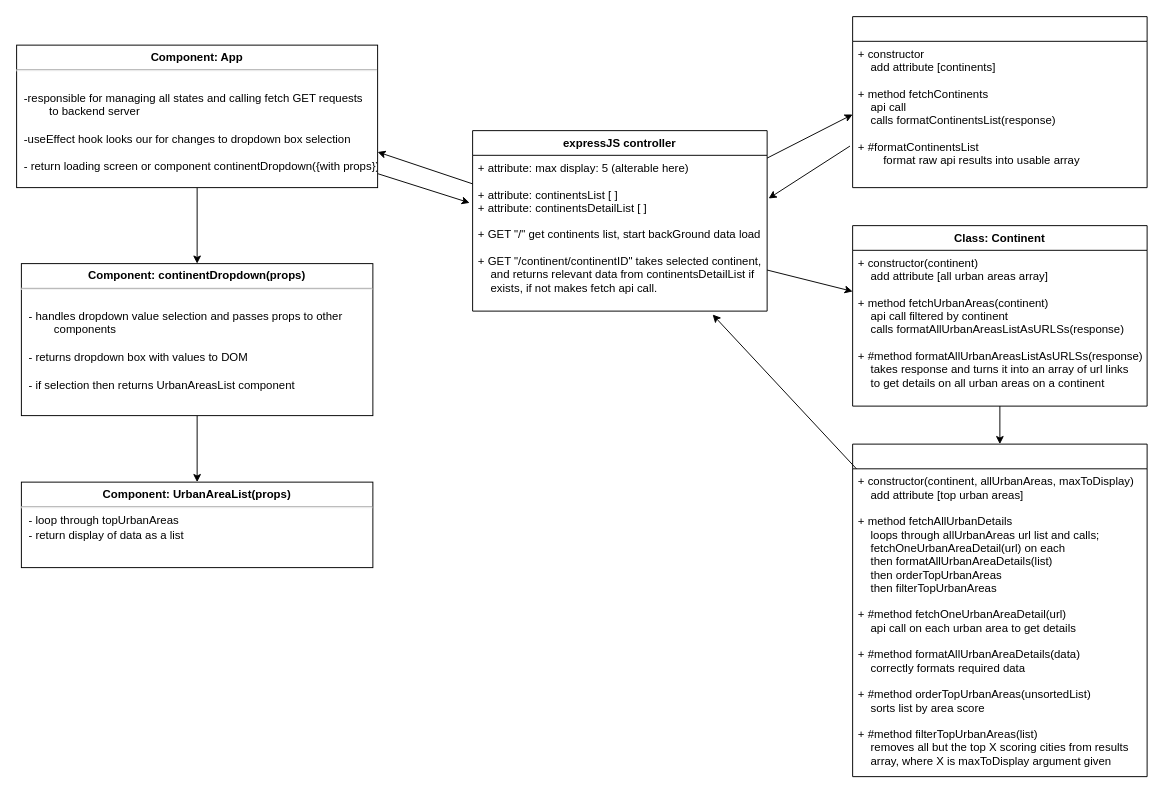
This 1164x796 diagram has some shape labels left out. The shapes that lost their labels are listed below. From the top down, each one's box as (x1, y1, x2, y2) in pixels, then its label:
(852, 16, 1147, 188): Class: World
(852, 443, 1147, 777): Class: UrbanAreaData
